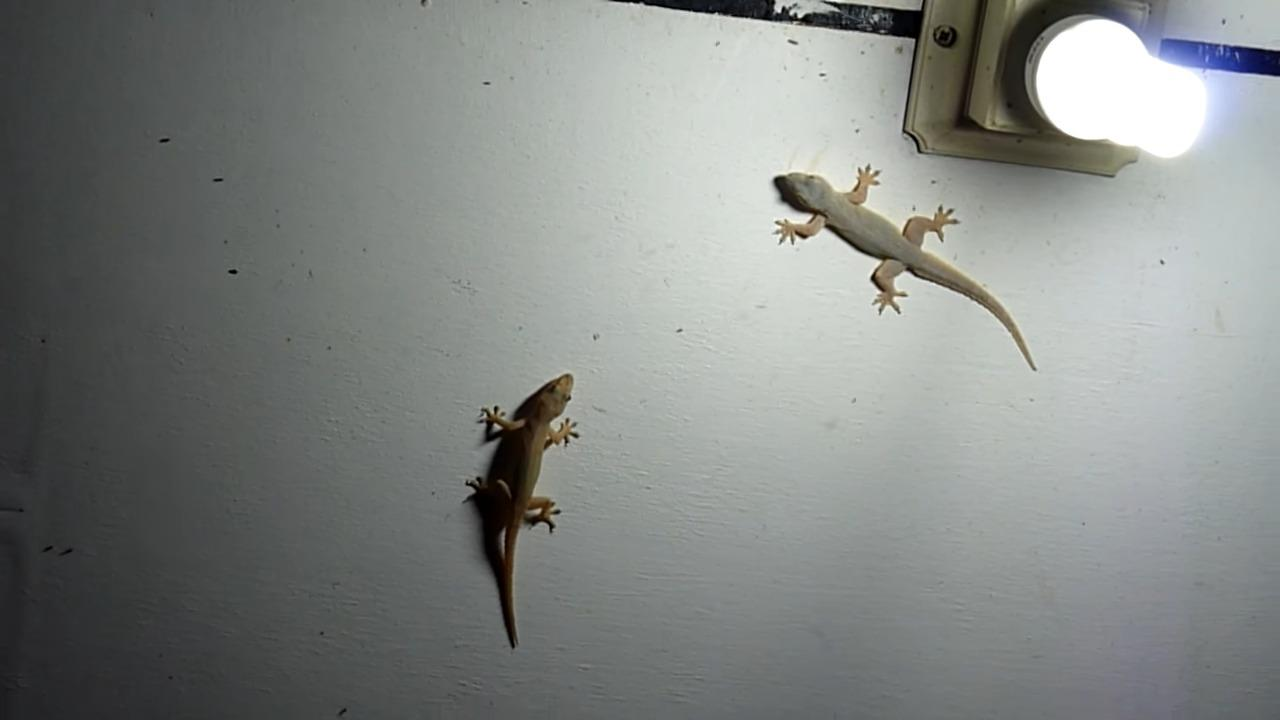lizard: (747, 161, 1053, 379), (429, 370, 618, 663)
